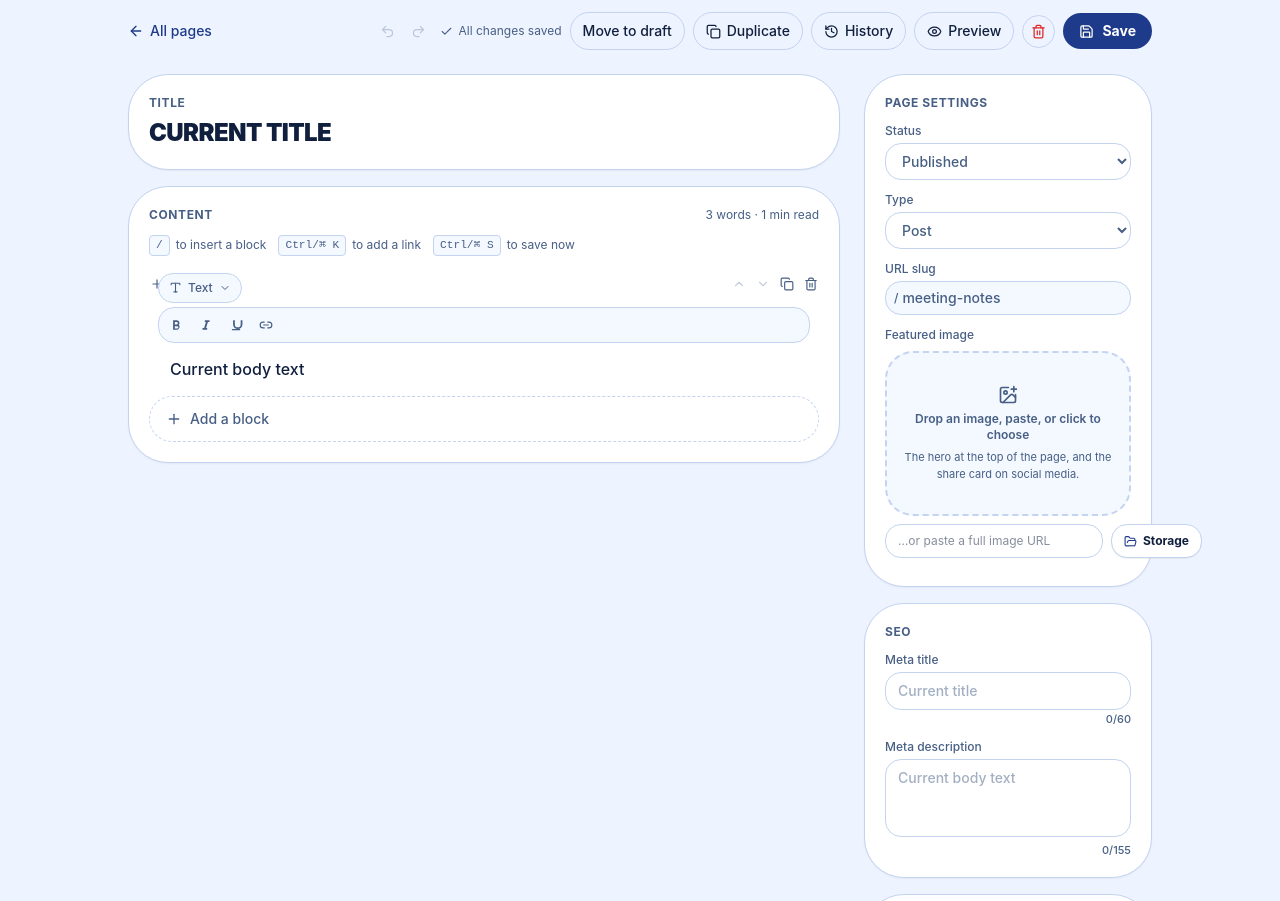
Test: ContentEditor version history › shows what a restore would change before asking
Click the button "History": click(859, 31) [811,12,906,50]
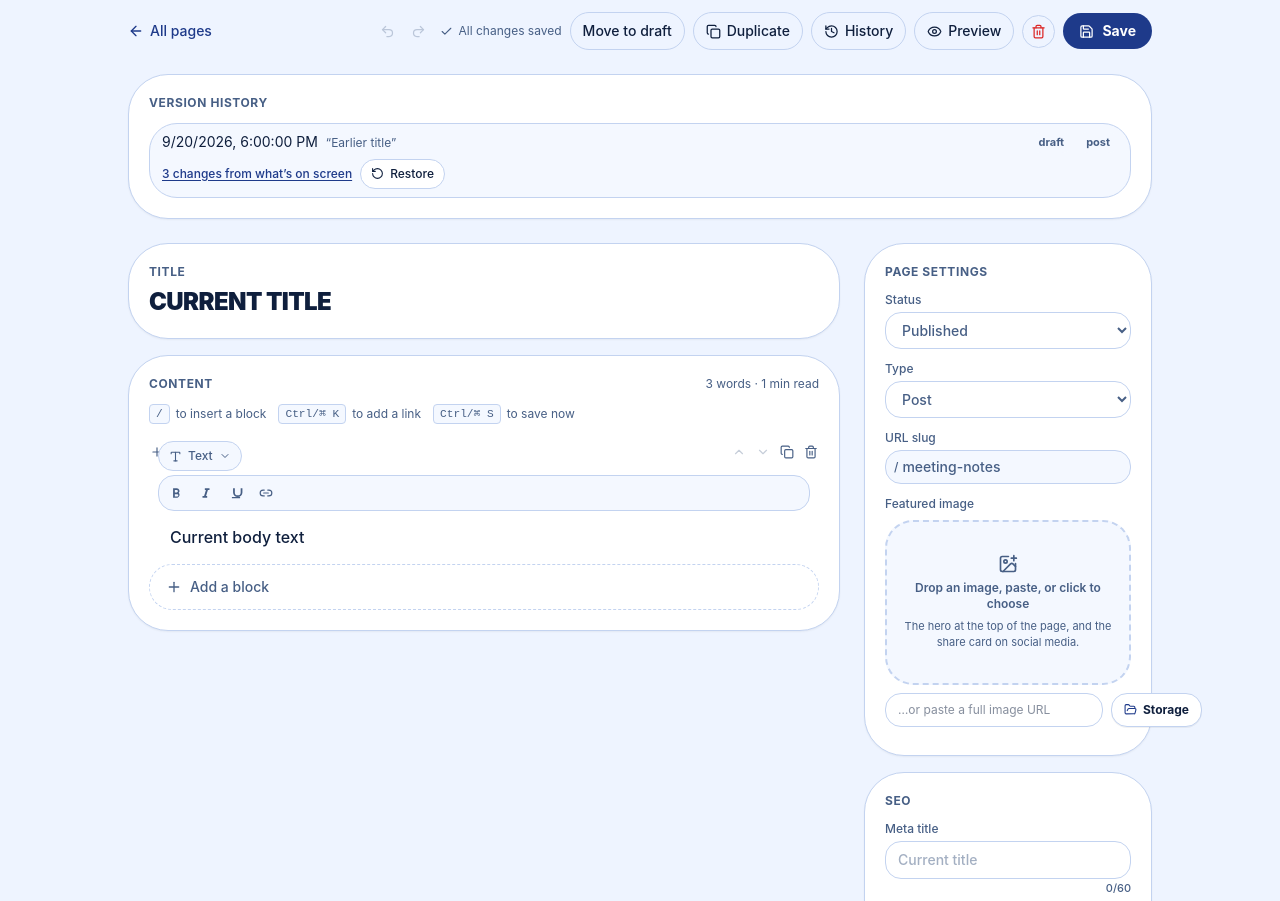
Click the button "3 changes from what’s on screen": click(257, 174) [162,166,352,182]
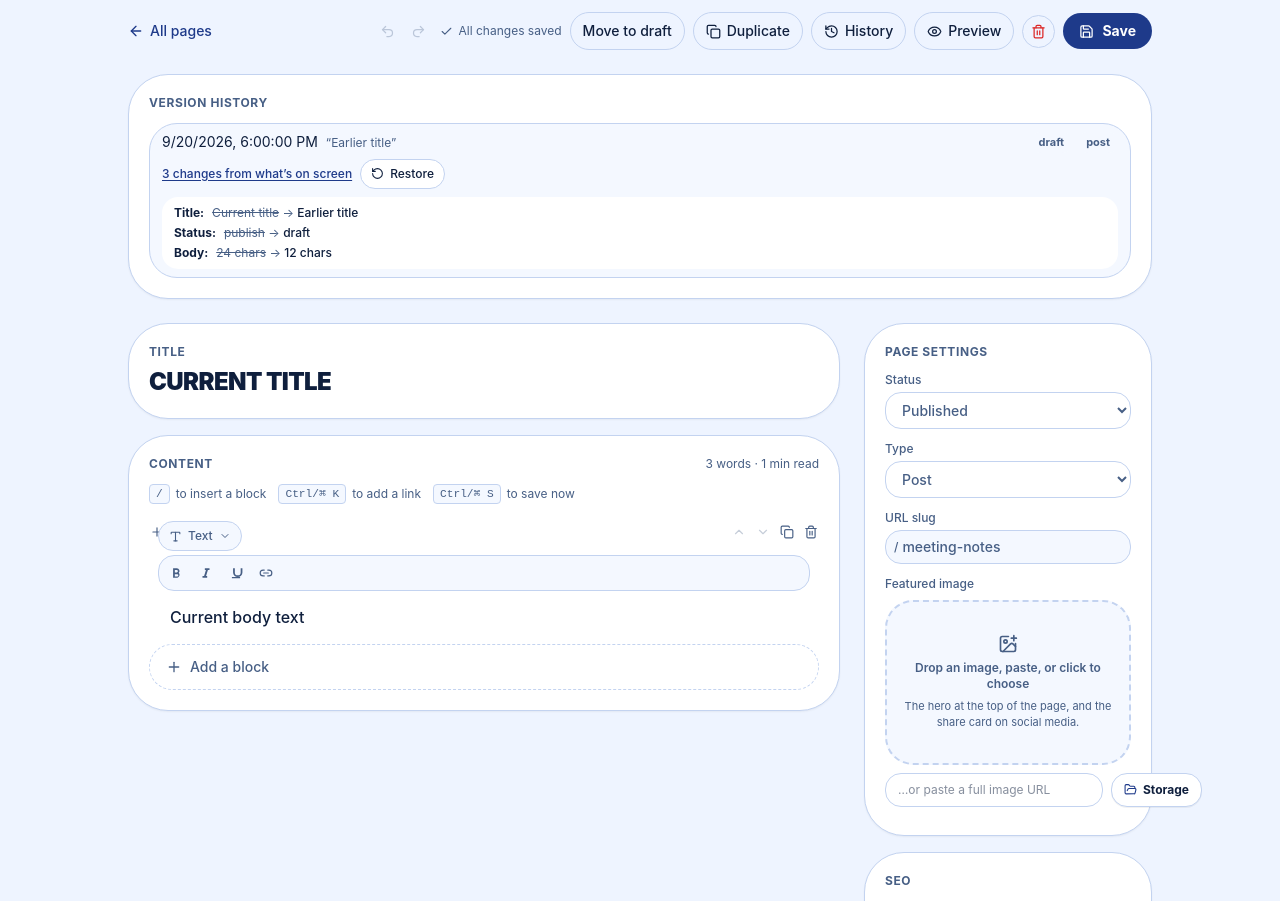
Expected: the text "Current title" is shown, [212,204,279,220]
Result: the text "Title:" is shown at [174,204,204,220]
Result: the text "Status:" is shown at [174,224,216,240]
